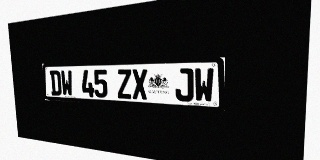4: (81, 70, 95, 97)
5: (94, 70, 108, 98)
D: (50, 70, 62, 96)
J: (175, 68, 193, 102)
W: (194, 68, 214, 103), (60, 70, 73, 96)
X: (132, 69, 148, 100)
Z: (117, 69, 132, 99)
